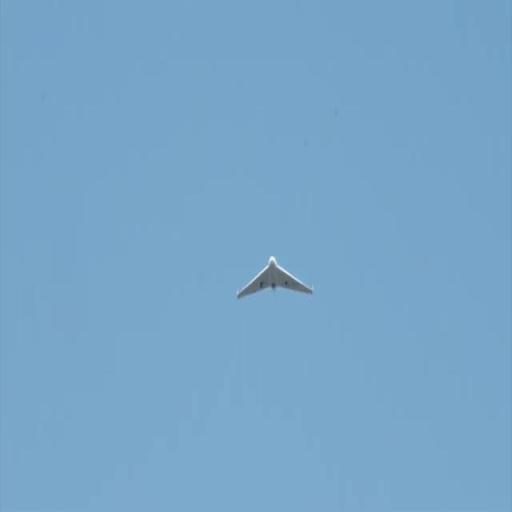uav: (236, 252, 316, 310)
